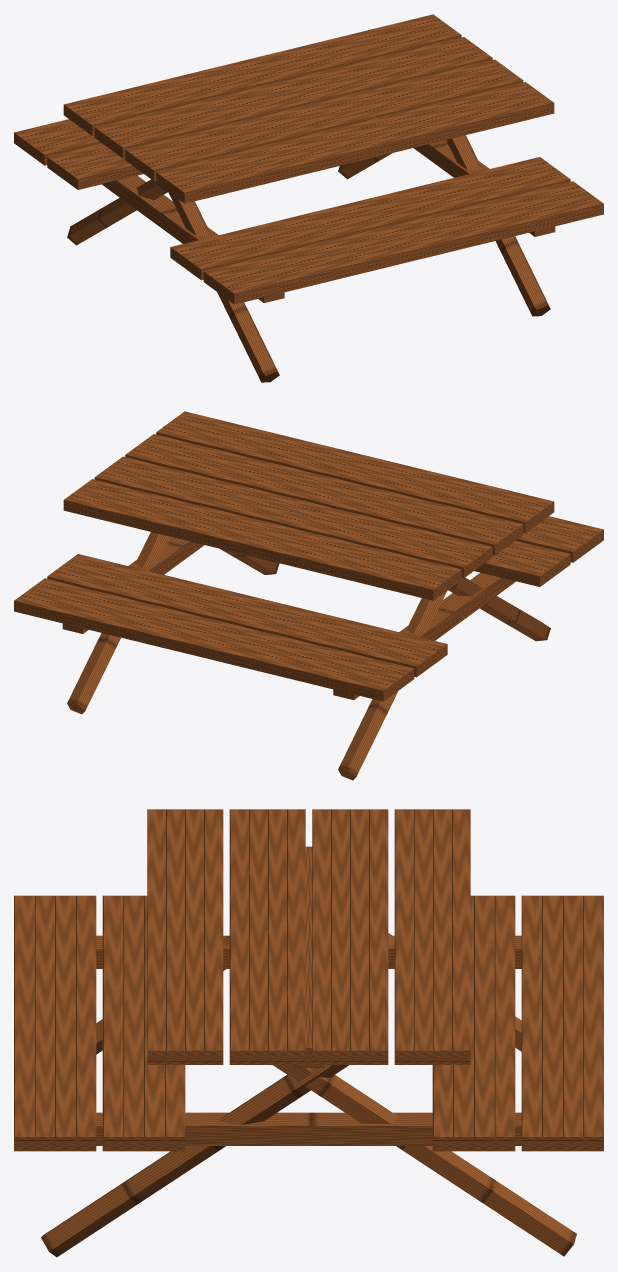
The model's file is allotments-and-community-garden-picnic-table-90f20aaf__35170.glb.
The picture shows the model from 3 angles, top to bottom: view 1: azimuth 30°, elevation 25°; view 2: azimuth 150°, elevation 25°; view 3: azimuth 270°, elevation 25°; orthographic projection. The views are drawn at different scales.
Visible parts, largest first — view 1: picnic-table-timber; view 2: picnic-table-timber; view 3: picnic-table-timber.
Boxes of the visible parts, x1,y1,x2,y2 form: picnic-table-timber: (14, 14, 603, 382); picnic-table-timber: (14, 411, 603, 780); picnic-table-timber: (14, 809, 603, 1257).
Size of the model in its own units: 1.8 by 0.8247 by 1.86.
1 material, 1 textured.
